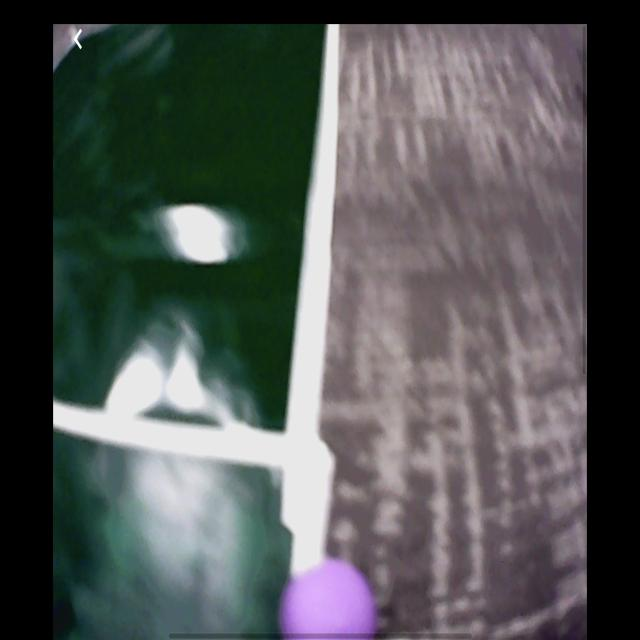ball: (279, 557, 379, 639)
